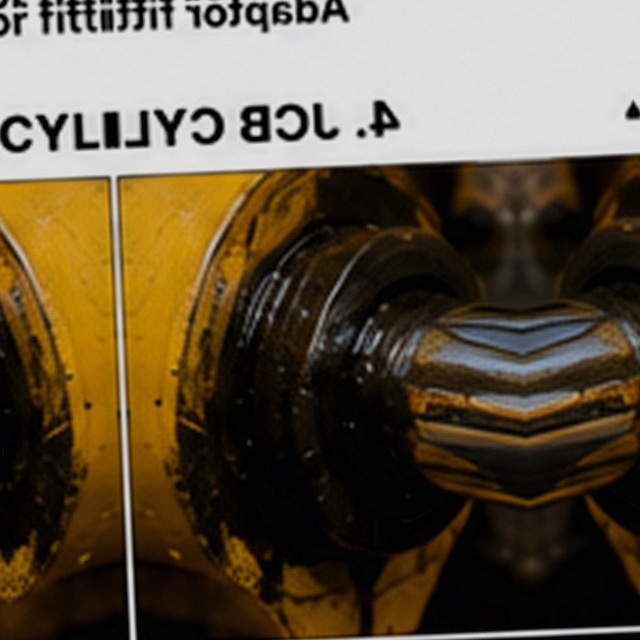hydraulic_oil_leak: (238, 269, 440, 463)
